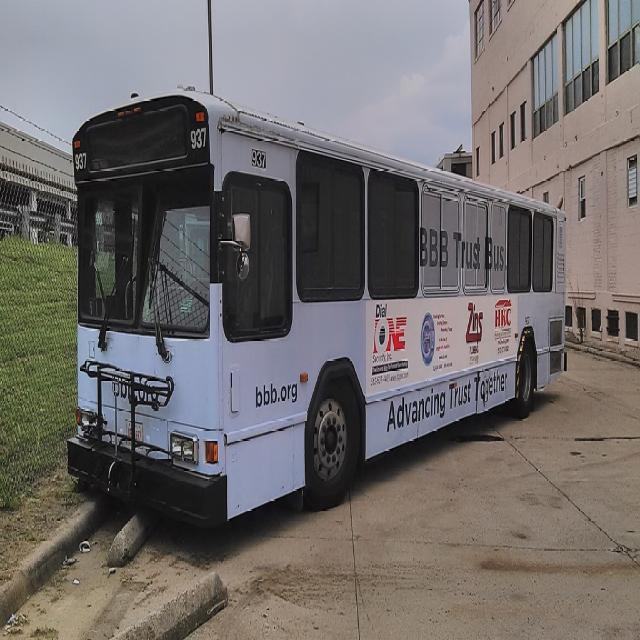Buses: (66, 90, 568, 533)
